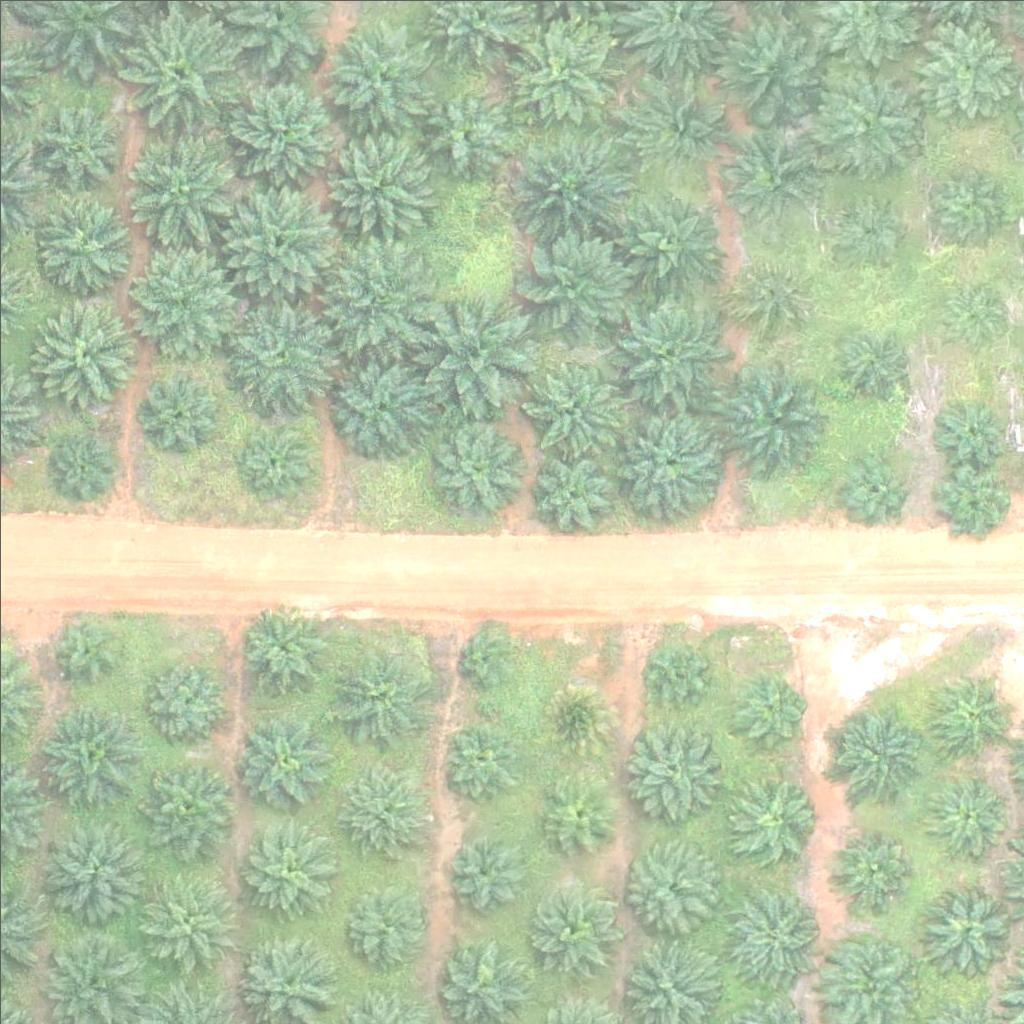Kelapa_Sawit: (713, 353, 838, 479), (606, 292, 731, 418), (511, 222, 636, 348), (414, 289, 539, 415), (311, 230, 436, 356), (217, 65, 342, 191), (116, 123, 241, 249), (117, 8, 242, 134), (317, 124, 430, 238), (715, 9, 828, 122), (319, 20, 432, 133), (125, 243, 238, 356), (223, 186, 335, 300), (810, 69, 922, 182), (610, 183, 722, 296), (623, 67, 735, 180), (511, 130, 623, 243), (506, 11, 618, 124), (228, 302, 340, 415), (40, 823, 140, 924), (39, 701, 139, 802), (133, 874, 233, 975), (134, 757, 234, 858), (236, 816, 336, 917), (822, 701, 922, 802), (621, 414, 721, 515), (33, 305, 133, 406), (34, 190, 134, 291), (233, 600, 333, 700), (327, 650, 427, 750), (819, 922, 919, 1022), (617, 836, 717, 936), (621, 718, 721, 818), (917, 15, 1017, 115), (522, 358, 622, 458), (332, 352, 432, 452), (27, 95, 127, 195), (924, 671, 1012, 760), (140, 656, 228, 744), (526, 885, 614, 973), (924, 885, 1012, 973), (822, 824, 910, 912), (921, 773, 1009, 861), (922, 159, 1010, 247), (420, 89, 508, 177), (236, 716, 323, 804), (342, 885, 429, 973), (340, 773, 427, 861), (730, 890, 817, 978), (724, 771, 811, 859), (726, 136, 813, 224), (529, 449, 616, 537), (435, 423, 522, 511), (539, 772, 614, 848), (449, 833, 524, 909), (236, 418, 311, 494), (47, 609, 122, 685), (442, 724, 517, 800), (538, 683, 613, 759), (640, 634, 715, 710), (732, 256, 807, 331), (139, 375, 214, 450), (730, 676, 805, 751), (940, 465, 1015, 540), (936, 387, 1011, 462), (838, 450, 913, 525), (835, 320, 910, 395), (829, 190, 904, 265), (50, 433, 113, 496), (453, 624, 515, 687), (943, 280, 1005, 343)
